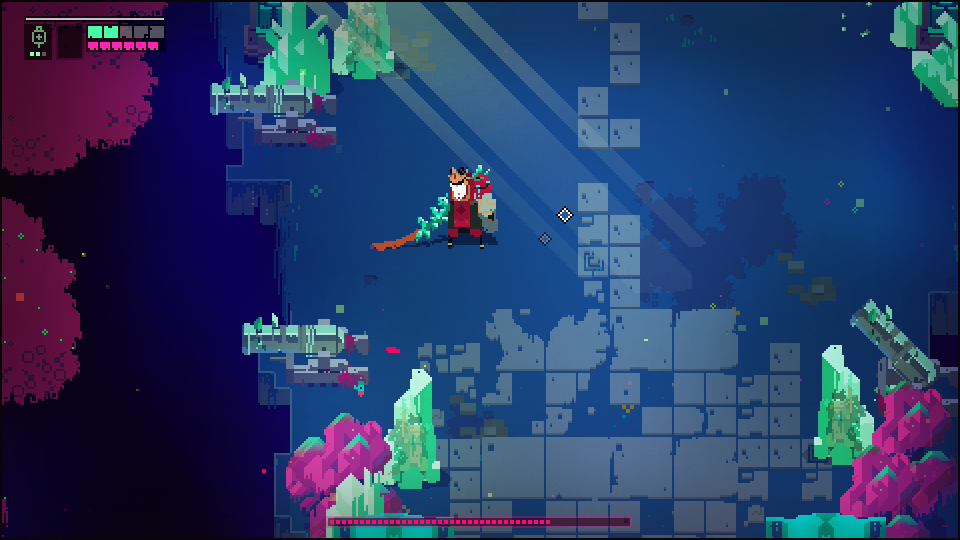hanged_man: (409, 157, 506, 260)
